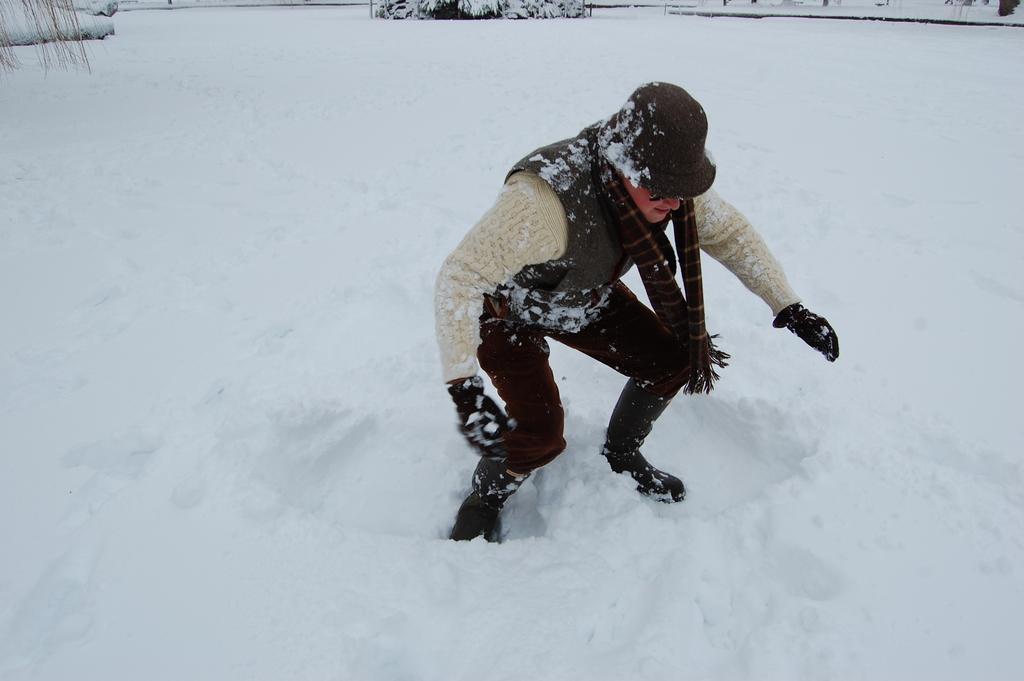Hat: (598, 77, 716, 200)
